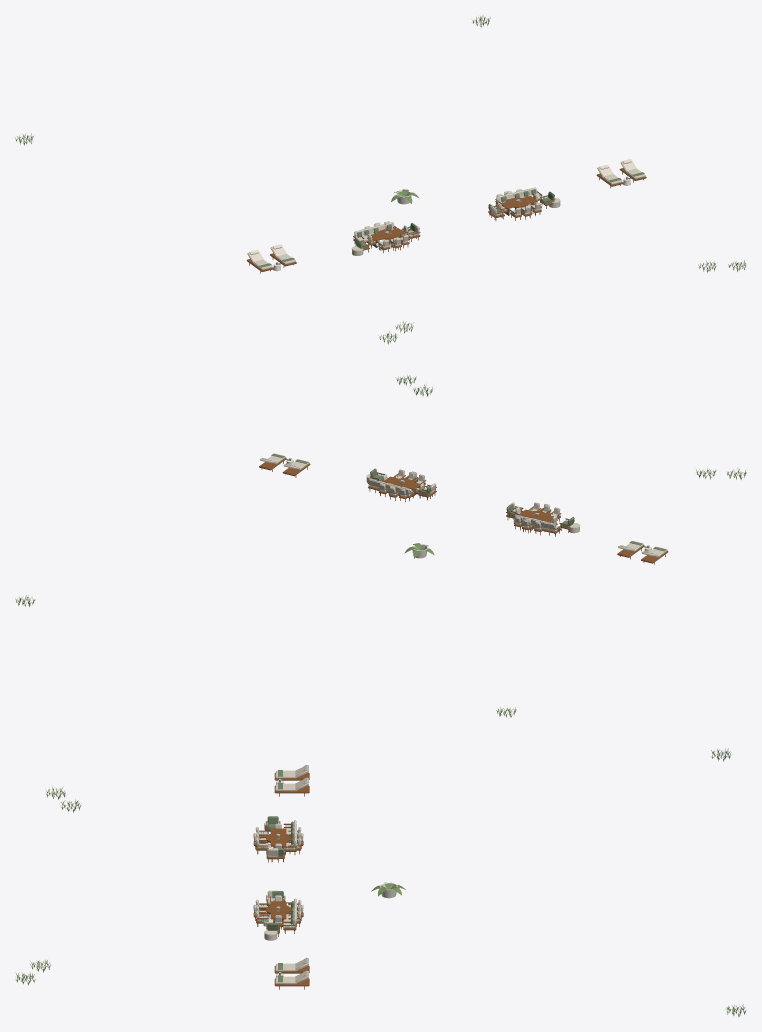
The model's file is m-crafted-details-v48.glb.
3 renders of one model, top to bottom at view 1: azimuth 30°, elevation 25°; view 2: azimuth 150°, elevation 25°; view 3: azimuth 270°, elevation 25°, orthographic. The views are drawn at different scales.
Parts seen in each view (by area): view 1: no part large enough to name; view 2: no part large enough to name; view 3: M48_ArrivalPlanting_Leaf, M48_Balcony_4_R_Linen, M48_Balcony_4_L_Linen, M48_Balcony_2_L_Wood, M48_Balcony_2_R_Wood.
Part boxes in pixels (left/top/right/bottom): M48_ArrivalPlanting_Leaf: left=15, top=750, right=746, bottom=1017; M48_Balcony_4_R_Linen: left=275, top=957, right=308, bottom=984; M48_Balcony_4_L_Linen: left=275, top=764, right=308, bottom=791; M48_Balcony_2_L_Wood: left=256, top=828, right=300, bottom=854; M48_Balcony_2_R_Wood: left=256, top=901, right=300, bottom=926.
Size of the model in its own units: 41.61 by 1.87 by 48.55.
Materials: 8 (3 with a texture image).
